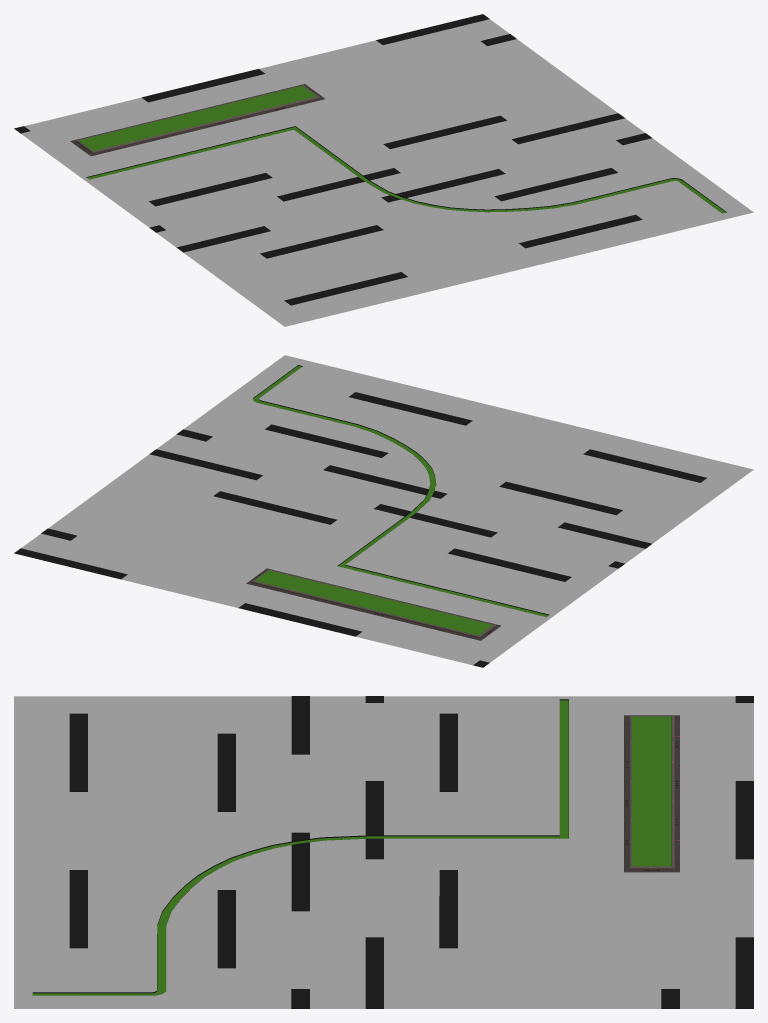
The model's file is W_M_32x32_R0_Park_Floor_b_L0.fbx.
3 views of the same model, one above another, from view 1: azimuth 30°, elevation 25°; view 2: azimuth 150°, elevation 25°; view 3: azimuth 270°, elevation 25° (orthographic). The views are drawn at different scales.
Visible parts, largest first — view 1: W_M_32x32_R0_Park_Floor_b_L0; view 2: W_M_32x32_R0_Park_Floor_b_L0; view 3: W_M_32x32_R0_Park_Floor_b_L0.
Part boxes in pixels (bbox=[...]): W_M_32x32_R0_Park_Floor_b_L0: bbox=[14, 14, 753, 326]; W_M_32x32_R0_Park_Floor_b_L0: bbox=[14, 355, 753, 667]; W_M_32x32_R0_Park_Floor_b_L0: bbox=[14, 696, 753, 1008].
Size of the model in its own units: 32 by 32 by 0.1682.
